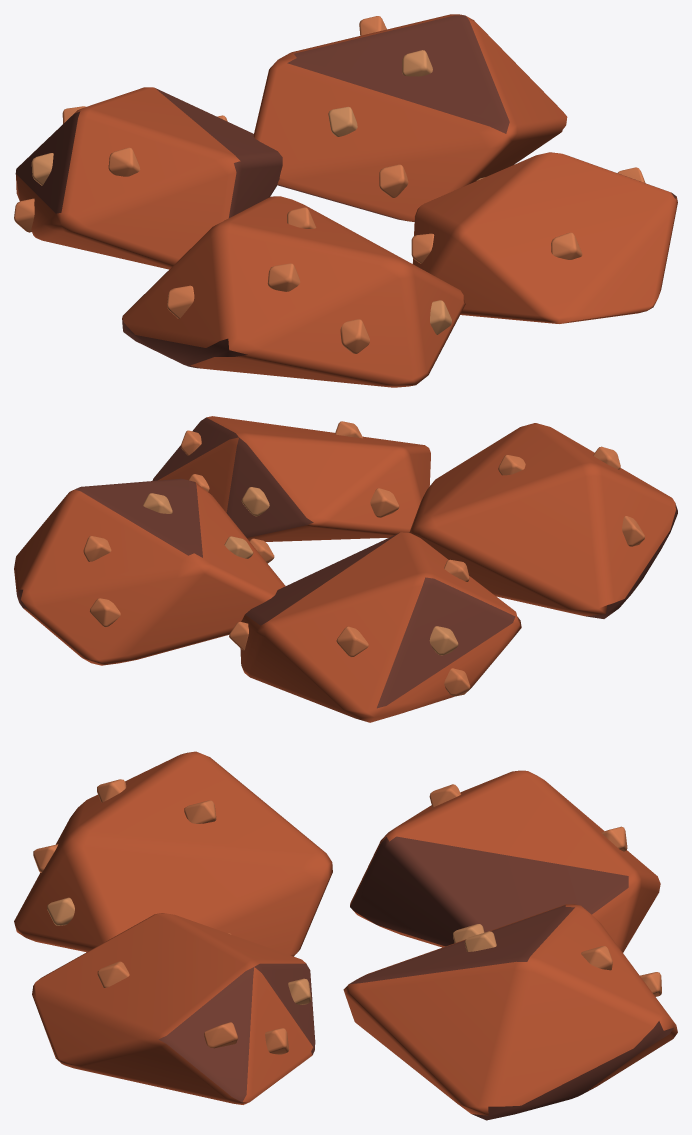
The model's file is minerai_bauxite_1.glb.
3 views of the same model, one above another, from view 1: azimuth 30°, elevation 25°; view 2: azimuth 150°, elevation 25°; view 3: azimuth 270°, elevation 25° (orthographic). The views are drawn at different scales.
Visible parts, largest first — view 1: minerai_bauxite.004, minerai_brique_sombre.004, minerai_bauxite_clair.004, minerai_gres_clair.004; view 2: minerai_bauxite.004, minerai_brique_sombre.004, minerai_bauxite_clair.004, minerai_gres_clair.004; view 3: minerai_bauxite.004, minerai_brique_sombre.004, minerai_bauxite_clair.004, minerai_gres_clair.004.
Part boxes in pixels (x1,y1,x2,y2): minerai_bauxite.004: (15, 14, 677, 387); minerai_brique_sombre.004: (15, 15, 676, 368); minerai_bauxite_clair.004: (14, 16, 645, 353); minerai_gres_clair.004: (31, 50, 484, 334); minerai_bauxite.004: (14, 416, 675, 722); minerai_brique_sombre.004: (16, 417, 677, 708); minerai_bauxite_clair.004: (83, 421, 644, 696); minerai_gres_clair.004: (143, 487, 458, 655); minerai_bauxite.004: (14, 751, 677, 1115); minerai_brique_sombre.004: (159, 836, 673, 1120); minerai_bauxite_clair.004: (33, 779, 661, 1054); minerai_gres_clair.004: (47, 897, 496, 1004).
Size of the model in its own units: 0.5286 by 0.1174 by 0.5408.
